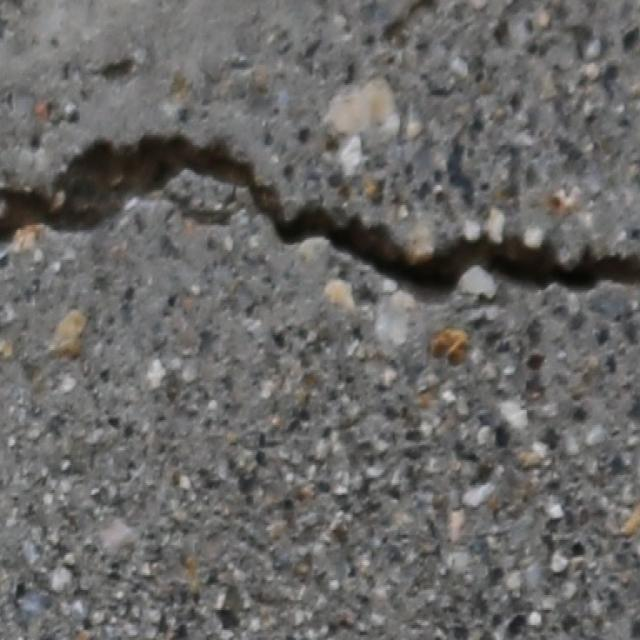crack: (1, 125, 639, 307)
